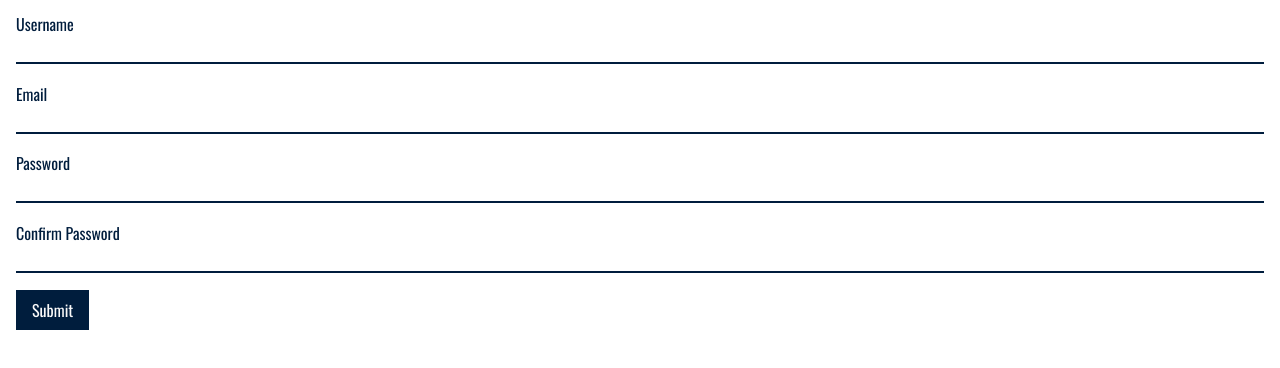
Test case: Register Form › should display an error message for an email less than 3 characters long
Type "username" into the field labelled "Username" at (640, 51), box [16,37,1264,64]
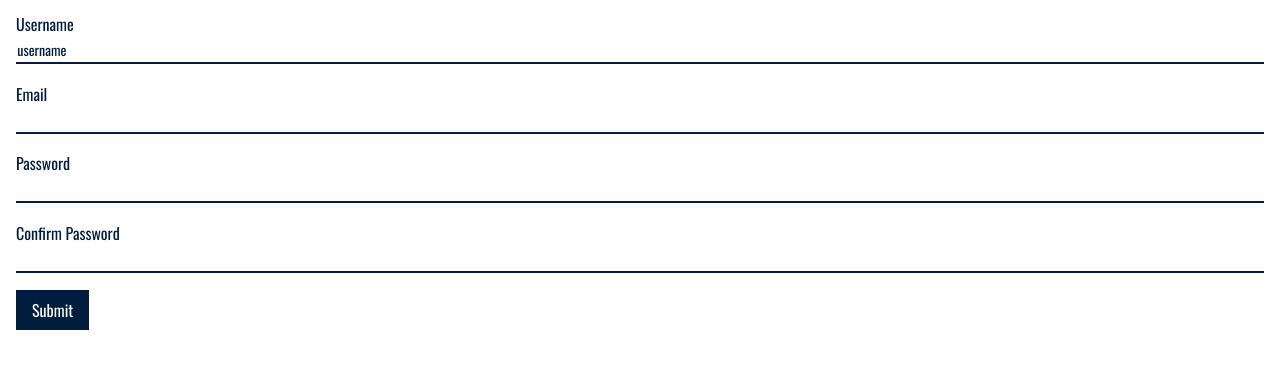
Type "a@a" into the field labelled "Email" at (640, 120), box [16,107,1264,134]
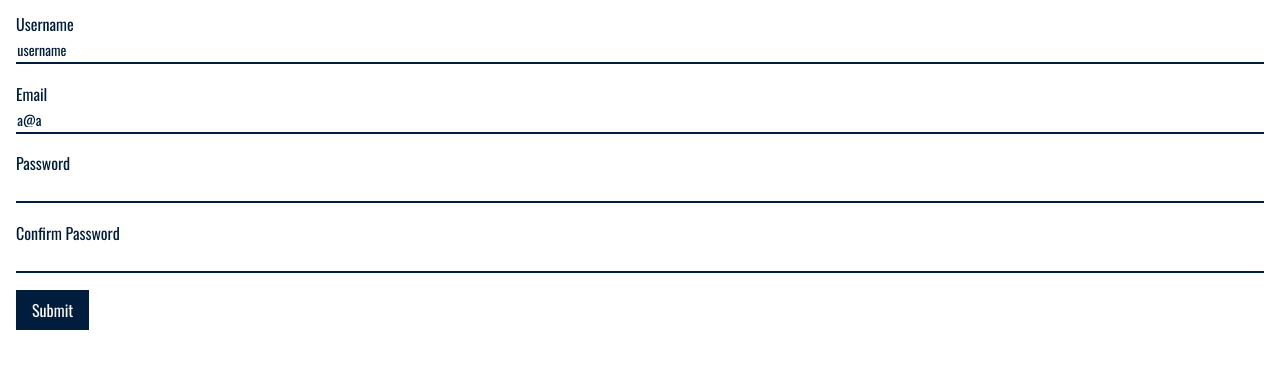
Type "Pa$$w0rd" into the password field labelled "Password" at (640, 190), box [16,176,1264,203]
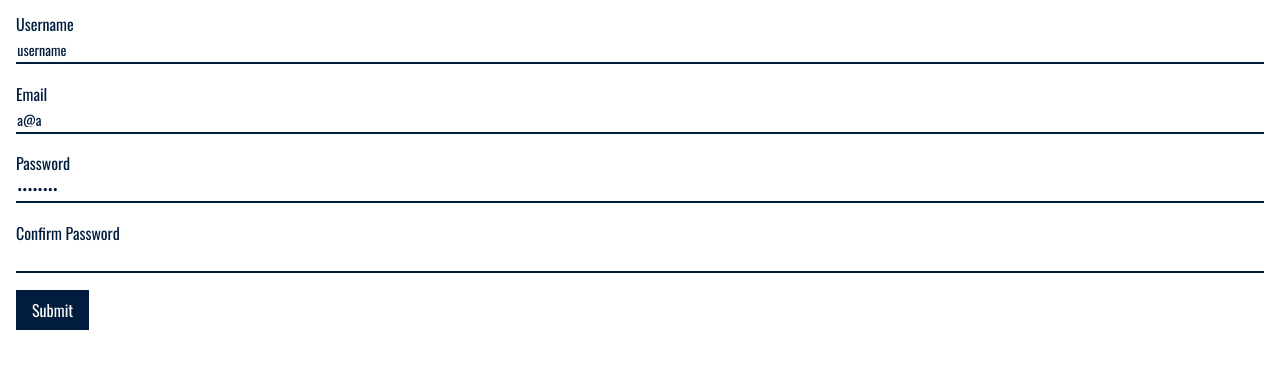
Type "Pa$$w0rd" into the password field labelled "Confirm Password" at (640, 259), box [16,246,1264,273]
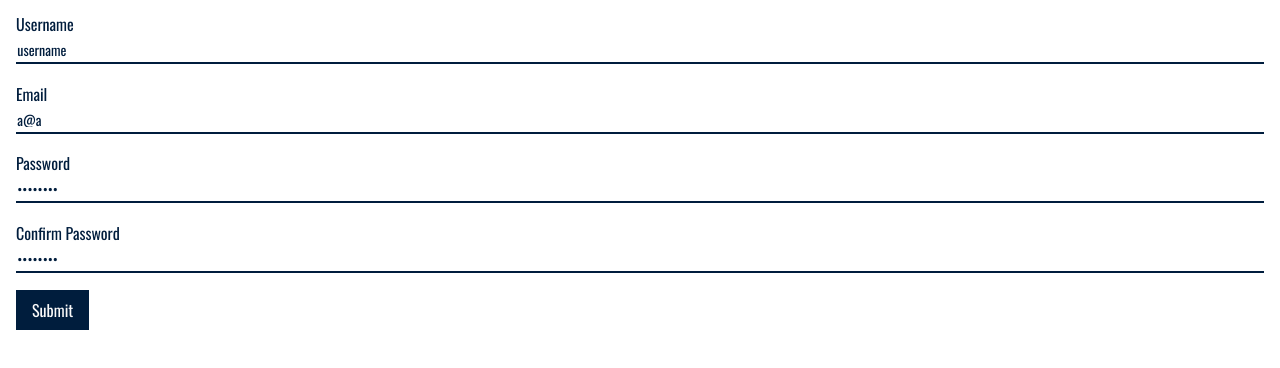
Click the button "Submit" at (53, 310), box [16,290,89,330]
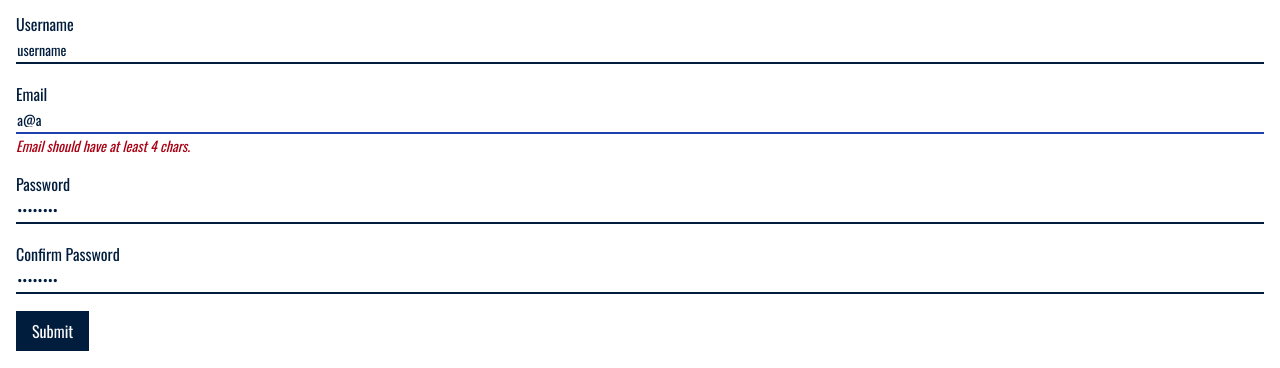
expect the text "Email should have at least 4 chars." is shown: met, box [16,135,190,156]
